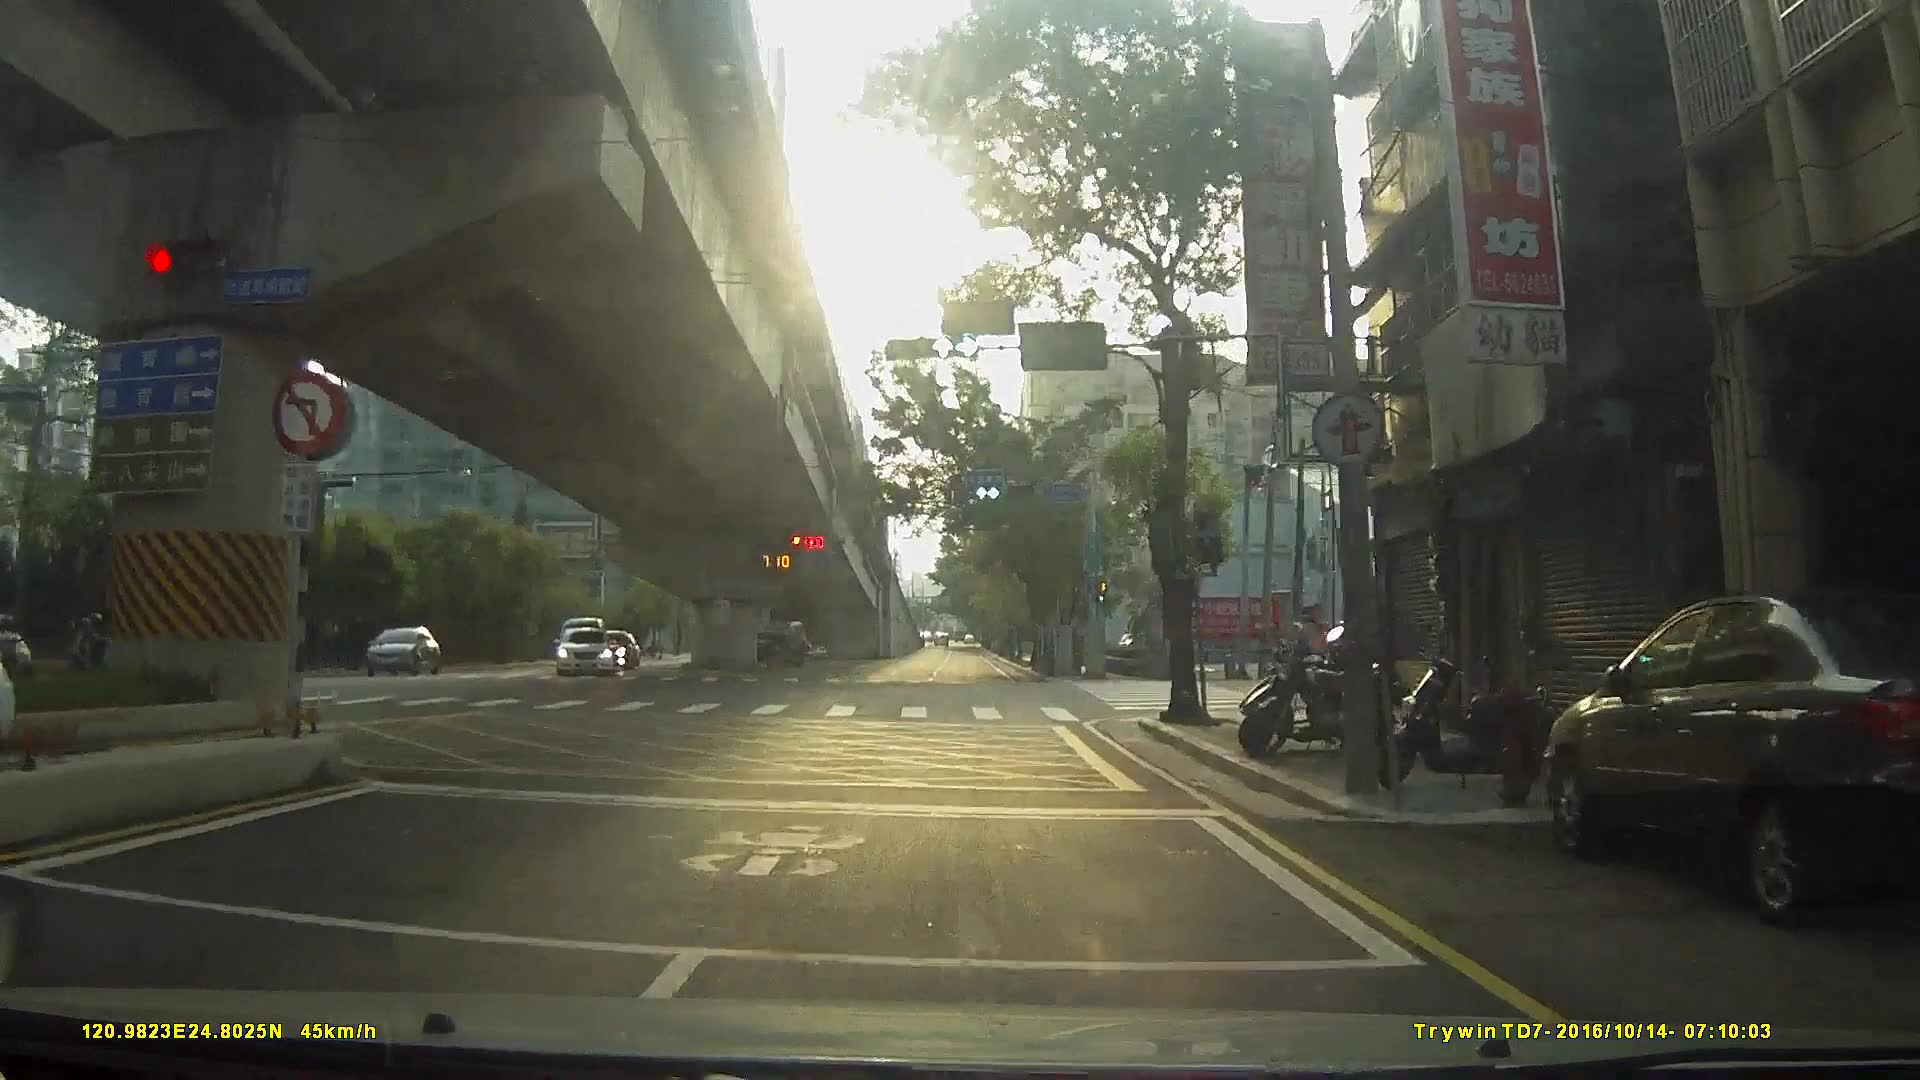vehicle: (1528, 580, 1920, 938), (353, 622, 433, 676), (549, 626, 613, 678), (733, 626, 806, 669)
